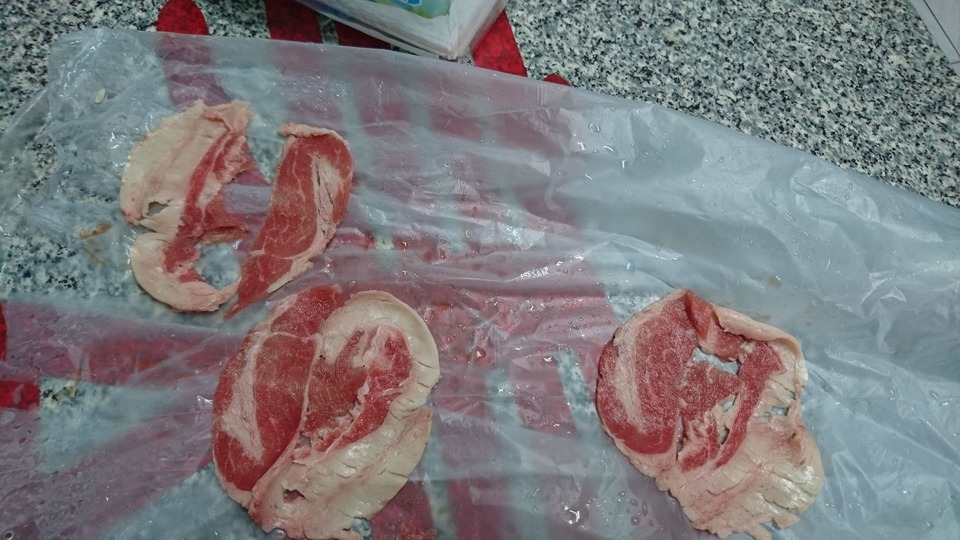restructured meat: (204, 277, 442, 540), (580, 277, 818, 540), (119, 89, 358, 310)
